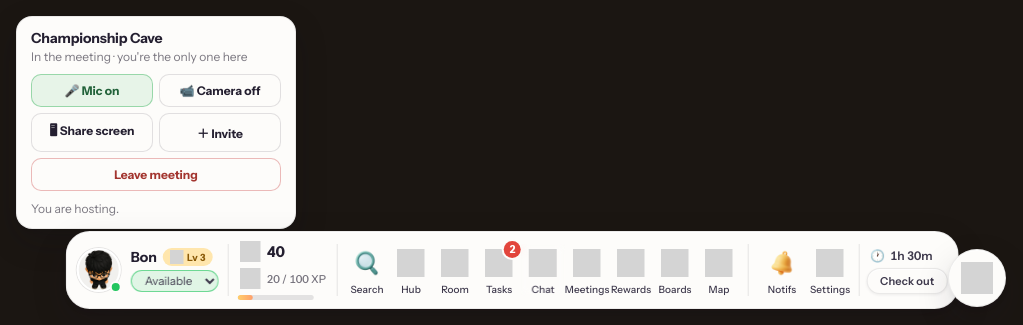
working time › is not offered once the journey is already running — no second entry into one flow
Expected: the element with test id "hud-dock" is shown, [66, 231, 958, 309]
Step 1. Click the button "Check out" → point(907, 280), box [867, 268, 947, 294]
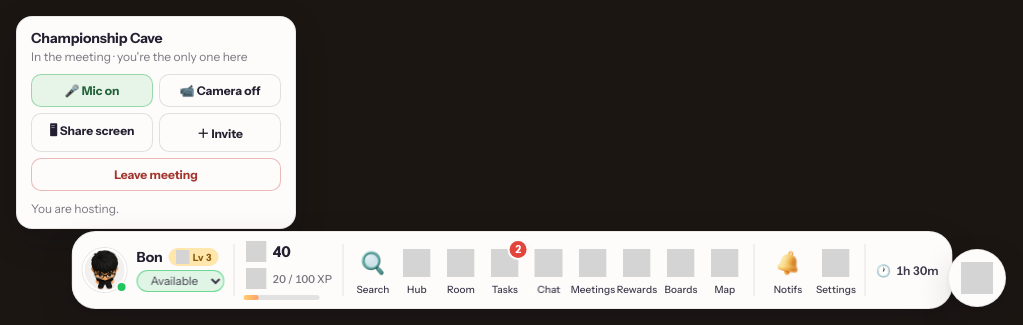
Result: the button "Check out" is gone
